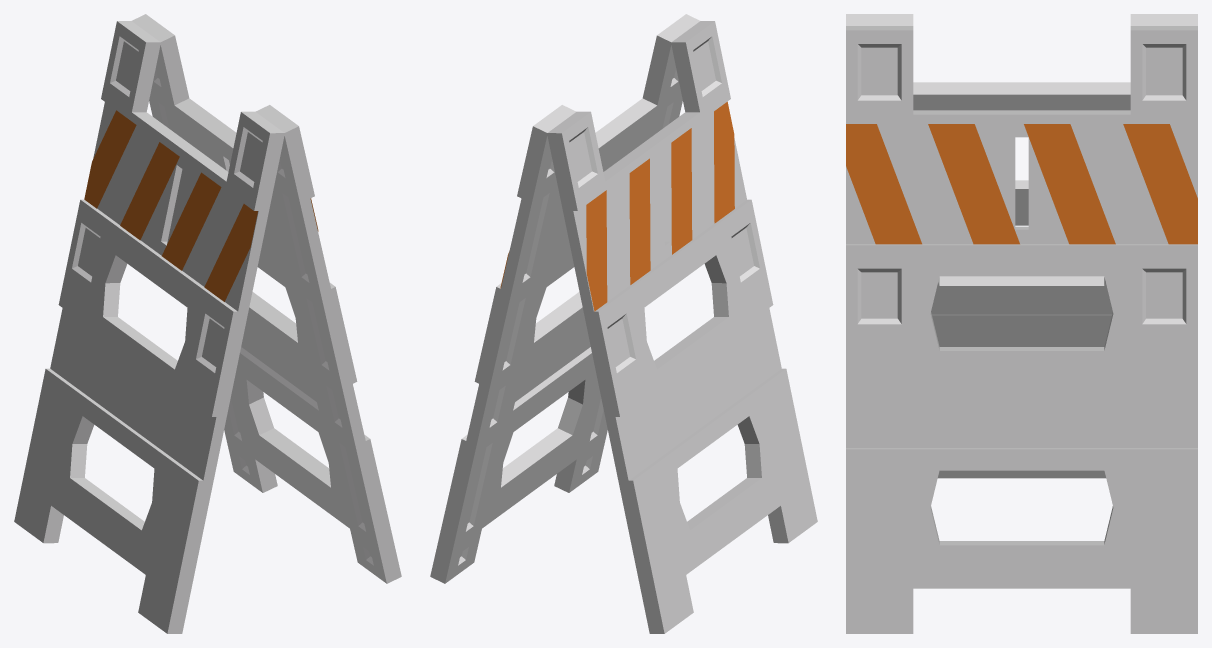
Rendered from SM_road_block.gltf.
3 renders of one model, left to right at view 1: azimuth 30°, elevation 25°; view 2: azimuth 150°, elevation 25°; view 3: azimuth 270°, elevation 25°, orthographic. The views are drawn at different scales.
Visible parts, largest first — view 1: SM_road_block; view 2: SM_road_block; view 3: SM_road_block.
Boxes of the visible parts, x1,y1,x2,y2 form: SM_road_block: (14, 14, 401, 633); SM_road_block: (430, 14, 817, 633); SM_road_block: (846, 14, 1197, 633).
Bounding box in the file's own units: 0.4986 × 0.9739 × 0.5645.
Materials: 1 (1 with a texture image).
